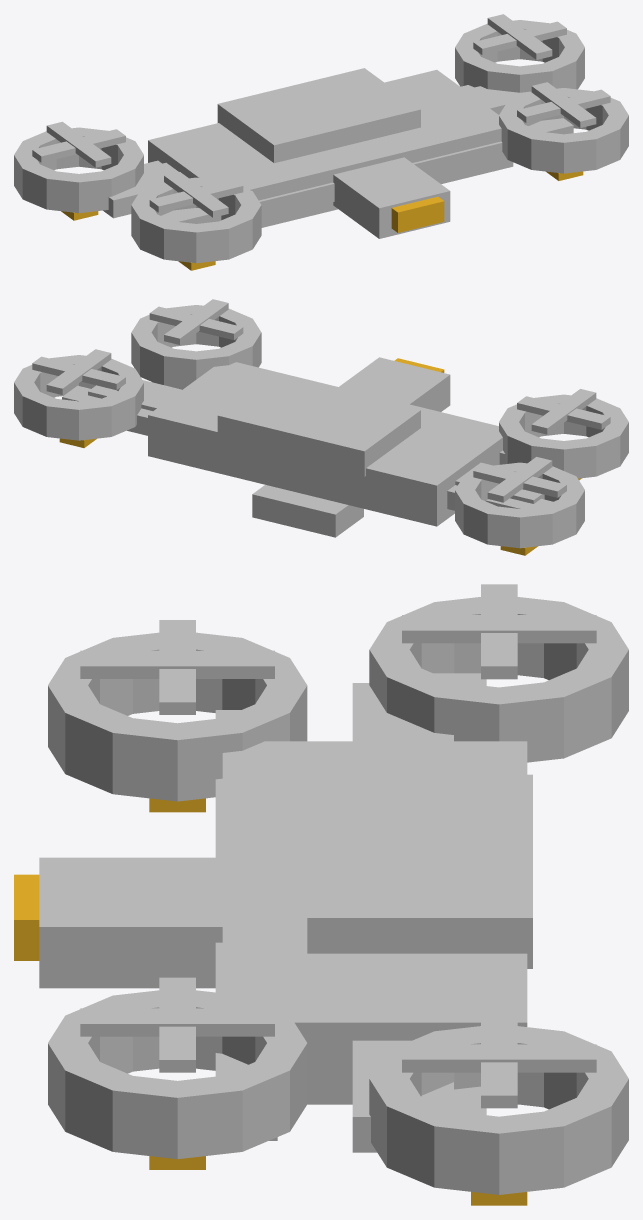
Rendered from SF_FlankerDrone.obj.
3 views of the same model, one above another, from view 1: azimuth 30°, elevation 25°; view 2: azimuth 150°, elevation 25°; view 3: azimuth 270°, elevation 25° (orthographic). The views are drawn at different scales.
Visible parts, largest first — view 1: SF_FlankerDrone; view 2: SF_FlankerDrone; view 3: SF_FlankerDrone.
Boxes of the visible parts, box(x1,y1,x2,y2) form: SF_FlankerDrone: box(14, 14, 628, 270); SF_FlankerDrone: box(14, 299, 628, 555); SF_FlankerDrone: box(14, 584, 628, 1205).
Bounding box in the file's own units: 2.26 × 0.3925 × 1.09.
